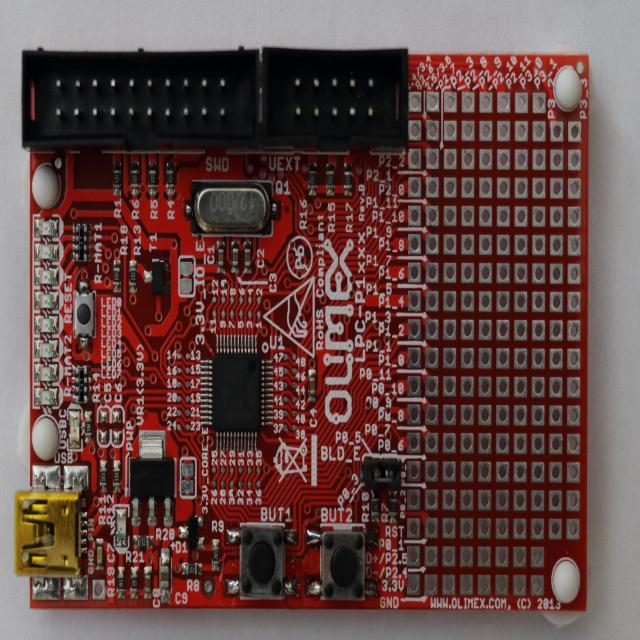Button: (225, 524, 296, 598), (306, 528, 378, 600), (72, 278, 96, 350)
Capacitor: (308, 368, 316, 401), (218, 241, 225, 273), (244, 241, 251, 273), (232, 241, 239, 273), (144, 566, 151, 598), (96, 539, 102, 569)
Clock: (184, 181, 280, 235)
Connector: (408, 90, 582, 595), (22, 50, 260, 152), (262, 47, 408, 151), (10, 450, 84, 584)
Diode: (178, 515, 204, 548)
Electrolytic Capacitor: (160, 548, 171, 605)
IC: (200, 335, 273, 450), (129, 430, 175, 526)
Jumper: (363, 456, 401, 487)
Led: (33, 288, 60, 312), (33, 312, 60, 336), (33, 336, 60, 360), (34, 360, 61, 384), (34, 384, 60, 408), (33, 240, 60, 263), (34, 265, 61, 287), (34, 216, 60, 238), (68, 410, 82, 450), (115, 506, 128, 549)
Pads: (178, 456, 198, 499), (177, 254, 196, 298), (96, 404, 111, 448), (110, 405, 124, 449)
Resistor Jumper: (72, 364, 90, 403), (73, 224, 92, 260)
Resistor Network: (85, 411, 93, 444), (131, 162, 139, 195), (113, 260, 121, 292), (389, 491, 397, 523), (117, 566, 125, 598), (344, 164, 352, 195), (327, 164, 335, 195), (372, 492, 380, 522), (130, 260, 137, 292), (100, 460, 107, 492), (212, 539, 219, 571), (131, 566, 138, 598), (182, 563, 202, 574), (113, 461, 120, 492), (167, 164, 174, 195), (309, 164, 316, 195), (150, 162, 156, 195), (114, 162, 120, 194), (138, 538, 149, 548)
Test Point: (92, 578, 106, 600), (238, 309, 244, 319), (176, 380, 182, 390), (176, 408, 182, 418), (211, 296, 217, 305), (283, 367, 289, 376), (184, 394, 190, 403), (185, 423, 191, 432), (176, 423, 182, 432), (229, 479, 235, 488), (238, 479, 244, 488), (256, 296, 262, 304), (238, 296, 244, 304), (291, 367, 297, 375), (291, 382, 297, 390), (291, 395, 297, 403), (220, 466, 226, 474), (256, 310, 261, 319), (185, 352, 190, 361), (185, 366, 190, 375), (177, 366, 182, 375), (185, 409, 190, 418), (283, 409, 288, 418), (283, 423, 288, 432), (256, 479, 261, 488), (220, 479, 225, 488), (185, 381, 191, 388), (291, 424, 297, 431), (229, 467, 235, 474), (238, 467, 244, 474), (211, 480, 217, 487), (248, 295, 252, 305), (283, 353, 288, 361), (283, 396, 288, 404), (248, 466, 252, 476), (247, 480, 252, 488), (212, 309, 216, 318), (230, 309, 234, 318), (221, 310, 225, 319), (256, 466, 260, 475), (177, 353, 182, 360), (283, 382, 288, 389), (221, 296, 225, 304), (230, 296, 234, 304), (248, 310, 252, 318), (292, 353, 296, 361), (177, 396, 181, 404), (292, 410, 296, 417), (212, 466, 216, 473)
Transistor: (144, 259, 171, 294)
